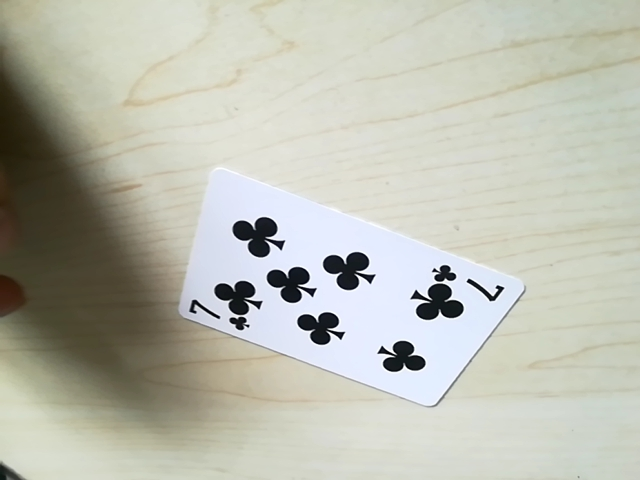mh 7: (182, 302, 246, 334), (441, 265, 496, 294)
